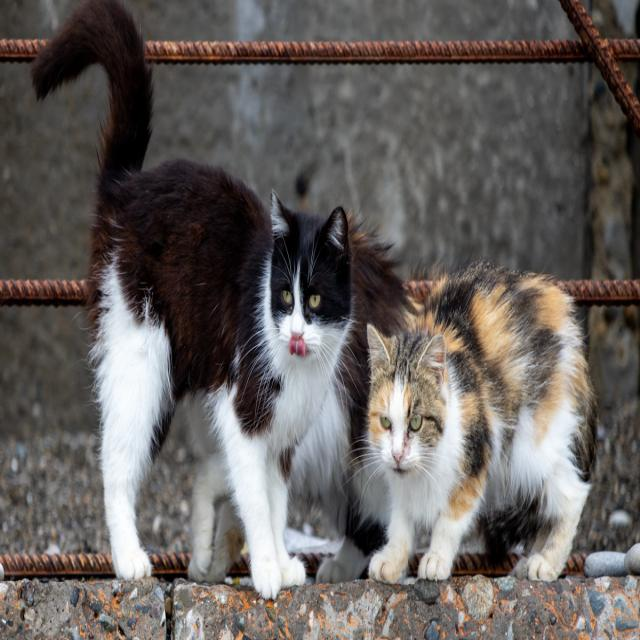cat: (32, 4, 352, 598), (368, 264, 595, 582), (290, 213, 419, 582)
